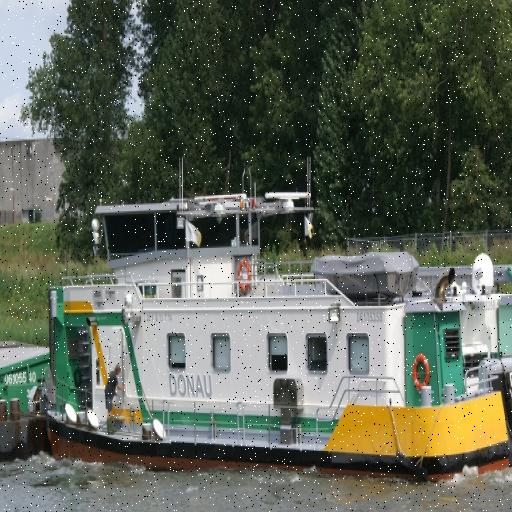tugboat: (41, 155, 512, 491)
